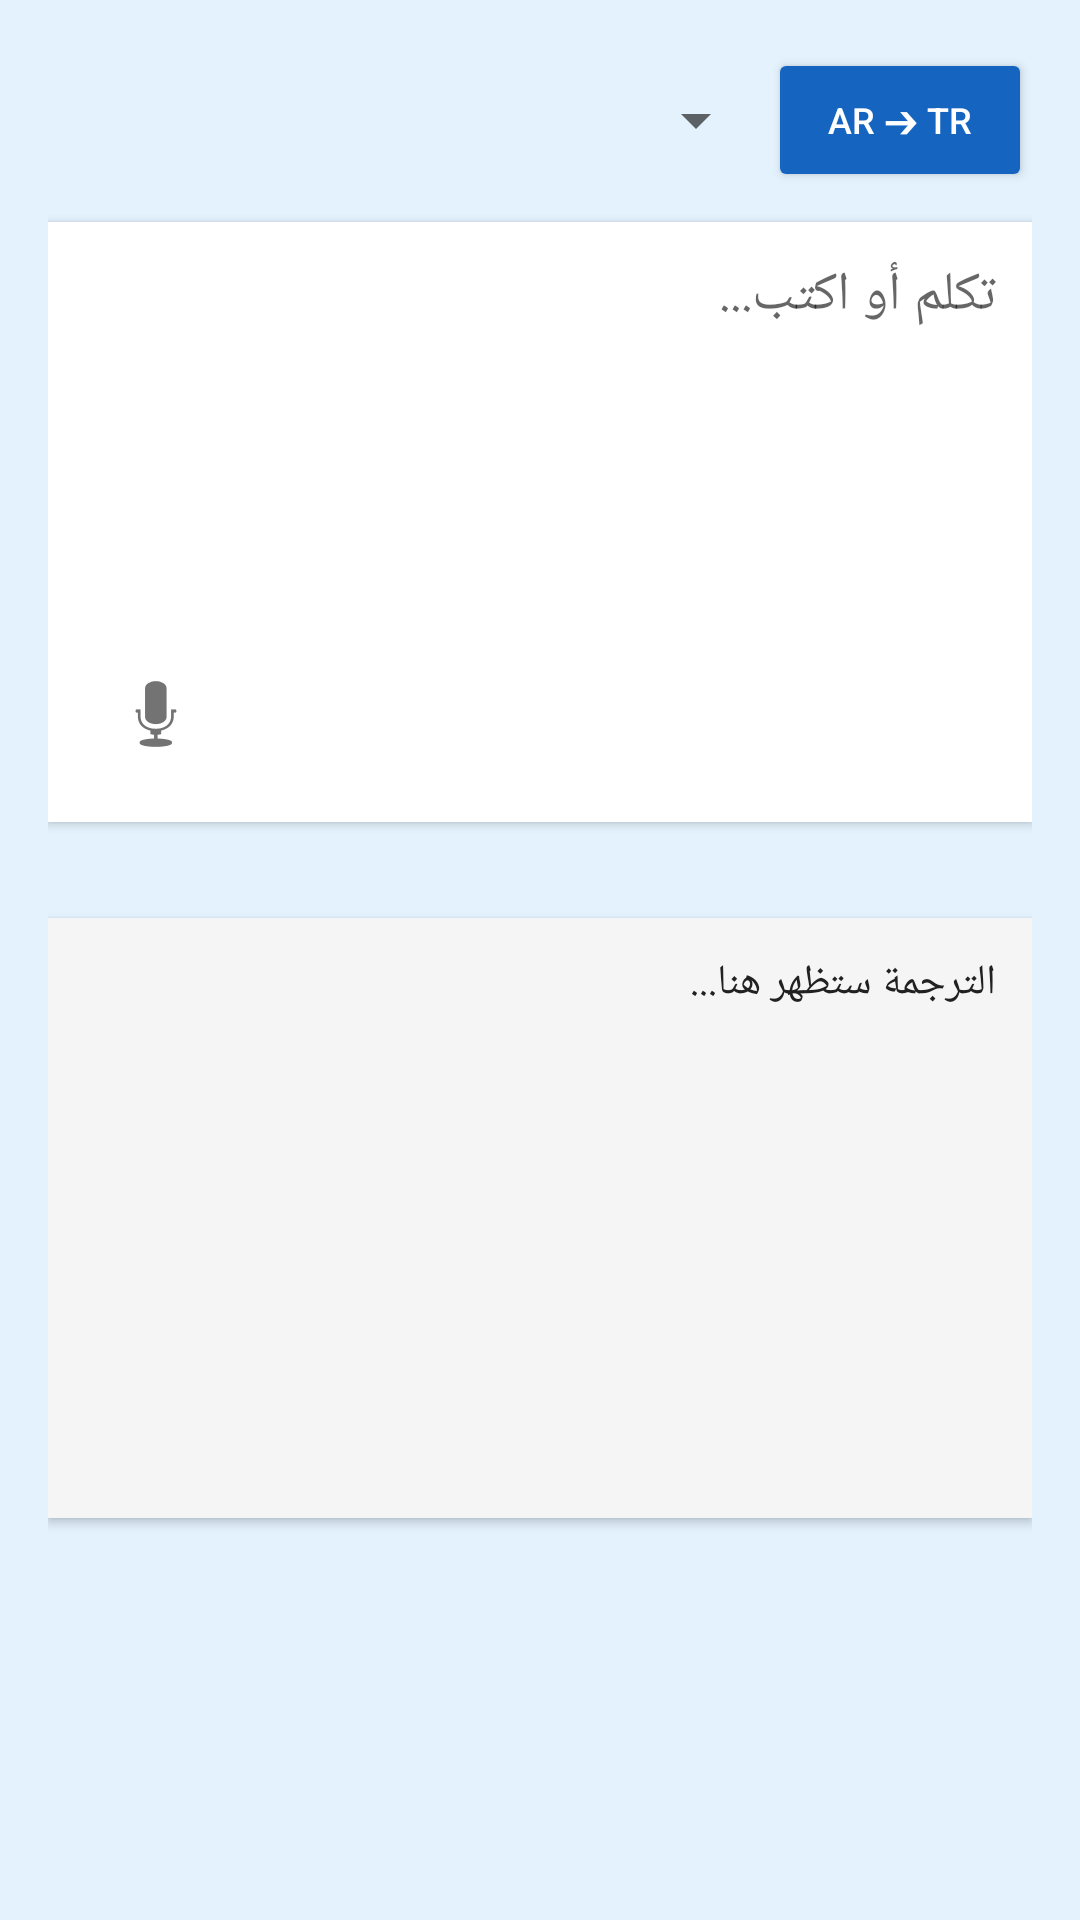

Screen size 1080w x 1920h. Icon name, then its box in pixels as [x1=x1, y1=y1, x2=x2, y2=y2]:
speak now: [x1=135, y1=681, x2=177, y2=747]
